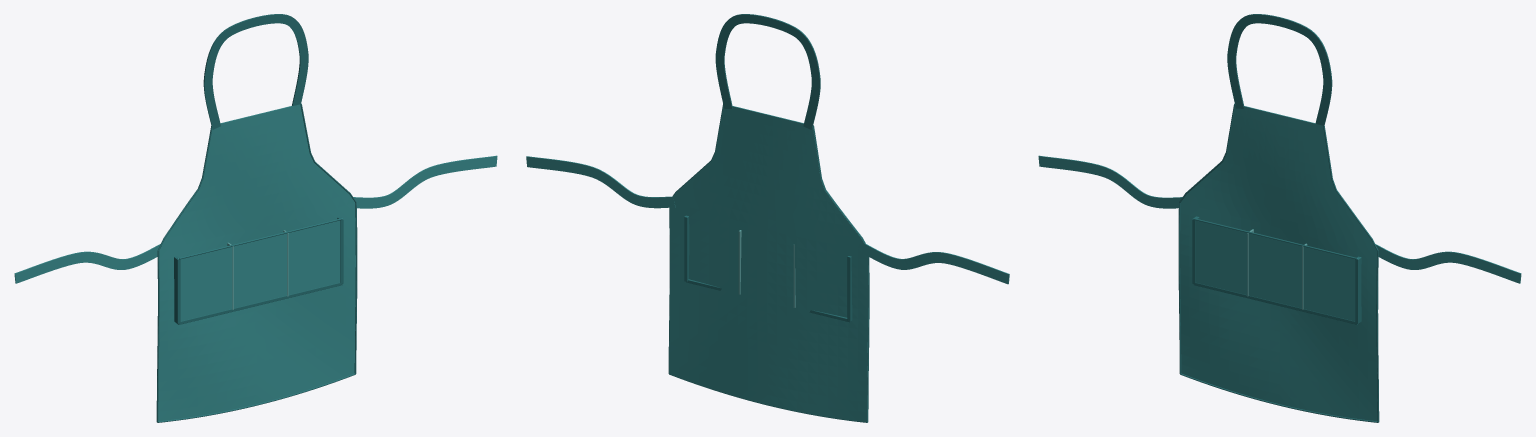
Rendered from full.glb.
3 views of the same model, side by side, from view 1: azimuth 30°, elevation 25°; view 2: azimuth 150°, elevation 25°; view 3: azimuth 330°, elevation 25° (orthographic).
Visible parts, largest first — view 1: Continuous shaped bib and skirt cloth, Broad sewn pocket face, Closed neck loop, Free waist tie -1, Free waist tie 1, Double side hem -1, Double side hem 1, Pocket bottom gusset, Pocket side gusset -0.247, Curved lower hem; view 2: Continuous shaped bib and skirt cloth, Closed neck loop, Free waist tie 1, Free waist tie -1, Double side hem -1; view 3: Continuous shaped bib and skirt cloth, Broad sewn pocket face, Closed neck loop, Free waist tie 1, Free waist tie -1, Double side hem 1, Double side hem -1, Pocket bottom gusset, Pocket side gusset 0.247, Curved lower hem.
Boxes of the visible parts, <box> form: Continuous shaped bib and skirt cloth: <box>158,104,355,421</box>; Broad sewn pocket face: <box>177,218,342,324</box>; Closed neck loop: <box>203,14,308,129</box>; Free waist tie -1: <box>14,244,160,283</box>; Free waist tie 1: <box>353,155,497,208</box>; Double side hem -1: <box>156,125,212,422</box>; Double side hem 1: <box>300,103,357,373</box>; Pocket bottom gusset: <box>176,283,342,324</box>; Pocket side gusset -0.247: <box>174,256,180,323</box>; Curved lower hem: <box>157,373,355,422</box>; Continuous shaped bib and skirt cloth: <box>669,105,868,422</box>; Closed neck loop: <box>715,14,820,129</box>; Free waist tie 1: <box>526,156,675,208</box>; Free waist tie -1: <box>861,243,1009,284</box>; Double side hem -1: <box>813,125,869,422</box>; Continuous shaped bib and skirt cloth: <box>1180,106,1377,421</box>; Broad sewn pocket face: <box>1193,218,1358,324</box>; Closed neck loop: <box>1227,14,1332,125</box>; Free waist tie 1: <box>1375,244,1521,283</box>; Free waist tie -1: <box>1038,155,1182,208</box>; Double side hem 1: <box>1323,125,1379,422</box>; Double side hem -1: <box>1178,103,1235,373</box>; Pocket bottom gusset: <box>1193,283,1360,324</box>; Pocket side gusset 0.247: <box>1355,256,1361,323</box>; Curved lower hem: <box>1180,373,1378,422</box>.
Size of the model in its own units: 1.46 by 1.12 by 0.0321.
